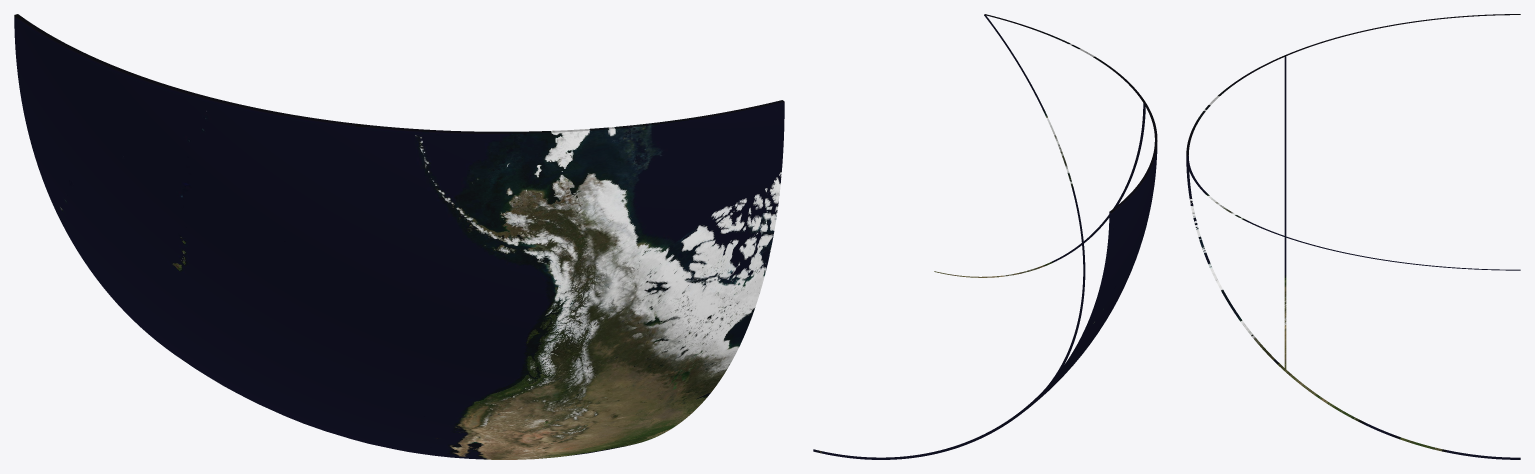
3 views of the same model, side by side, from view 1: azimuth 30°, elevation 25°; view 2: azimuth 150°, elevation 25°; view 3: azimuth 270°, elevation 25° (orthographic). The views are drawn at different scales.
Visible parts, largest first — view 1: DefaultName.003, DefaultName.012, DefaultName.009, DefaultName.006; view 2: DefaultName.003, DefaultName.006, DefaultName.009, DefaultName.012; view 3: DefaultName.003, DefaultName.006, DefaultName.009, DefaultName.012.
Part boxes in pixels (bbox=[...]): DefaultName.003: bbox=[14, 14, 456, 386]; DefaultName.012: bbox=[355, 100, 784, 356]; DefaultName.009: bbox=[457, 102, 784, 413]; DefaultName.006: bbox=[161, 344, 701, 459]; DefaultName.003: bbox=[1023, 102, 1157, 411]; DefaultName.006: bbox=[813, 243, 1085, 459]; DefaultName.009: bbox=[934, 15, 1083, 277]; DefaultName.012: bbox=[984, 14, 1145, 243]; DefaultName.003: bbox=[1284, 14, 1520, 270]; DefaultName.006: bbox=[1284, 237, 1520, 459]; DefaultName.009: bbox=[1186, 156, 1286, 370]; DefaultName.012: bbox=[1186, 55, 1285, 236].
Size of the model in its own units: 63781 by 63781 by 63568.
4 materials, 4 textured.
